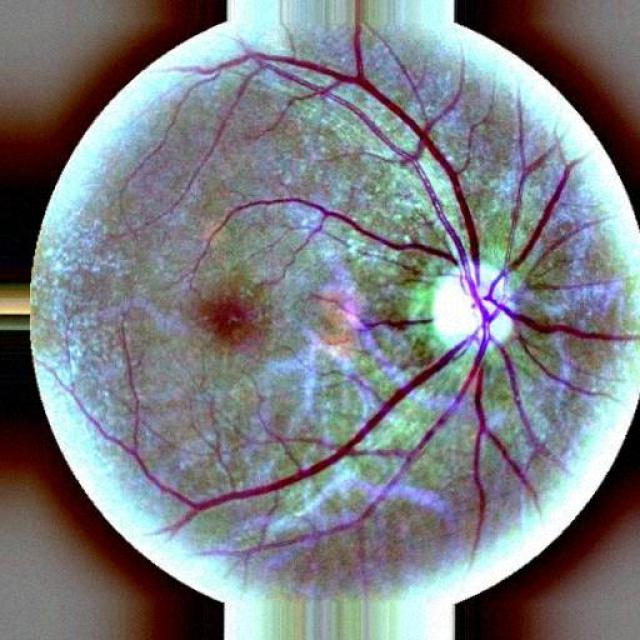Macula: (199, 296, 252, 345)
Nerves: (114, 5, 634, 544), (509, 101, 551, 246), (360, 319, 430, 330)
Optic Disk: (432, 262, 514, 348)
